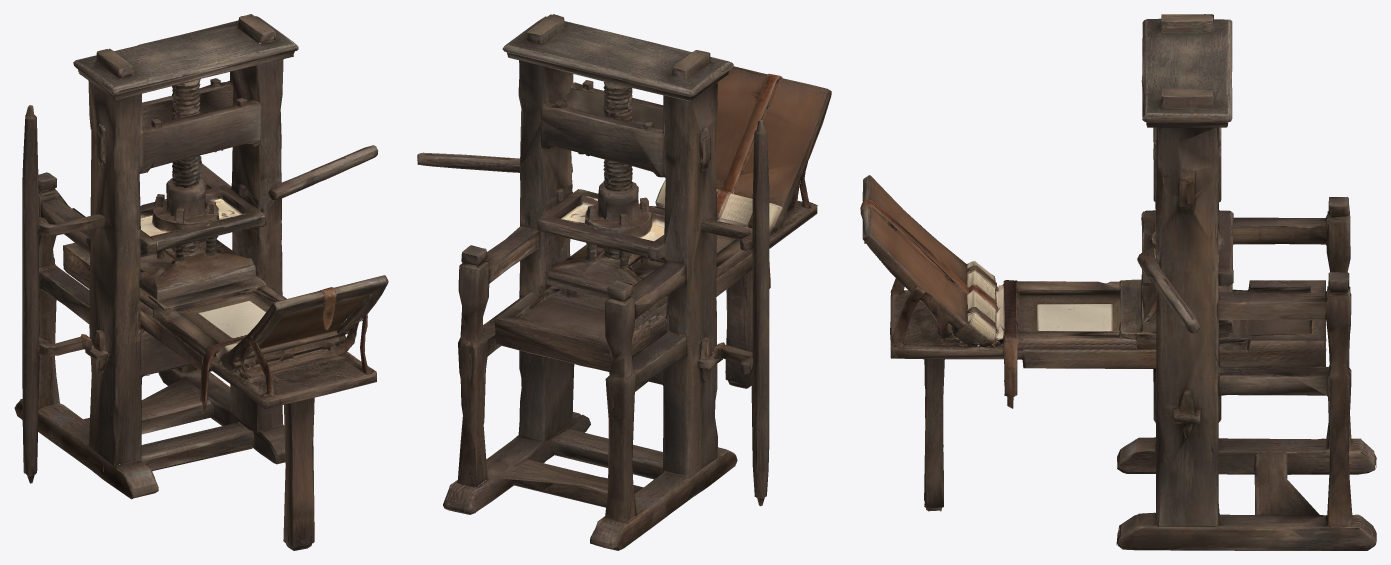
The model's file is press-common-operable.glb.
The picture shows the model from 3 angles, left to right: view 1: azimuth 30°, elevation 25°; view 2: azimuth 150°, elevation 25°; view 3: azimuth 270°, elevation 25°; orthographic projection. The views are drawn at different scales.
Visible parts, largest first — view 1: Mesh_0; view 2: Mesh_0; view 3: Mesh_0.
Part boxes in pixels (box(x1,y1,x2,y2)): Mesh_0: box(14, 14, 388, 550); Mesh_0: box(417, 14, 831, 550); Mesh_0: box(860, 14, 1376, 550).
Size of the model in its own units: 1.61 by 1.85 by 1.9.
1 material, 1 textured.
